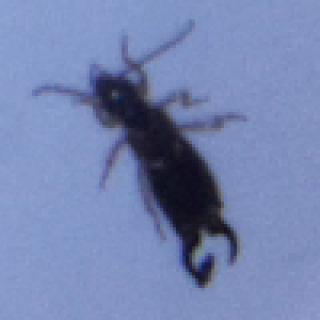earwig: (29, 15, 249, 283)
